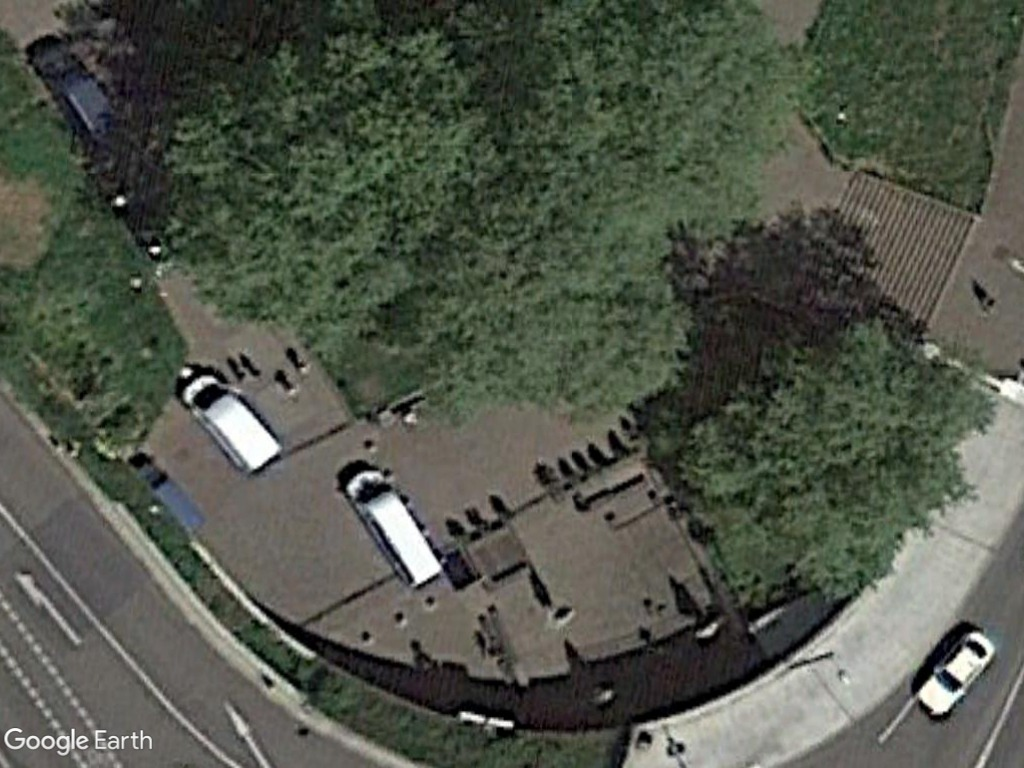car: (905, 628, 999, 725)
van: (341, 465, 445, 594), (173, 364, 286, 479)
